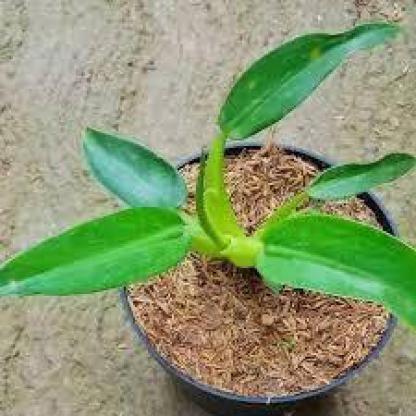Kenanga: (45, 110, 201, 370), (184, 146, 330, 366)
